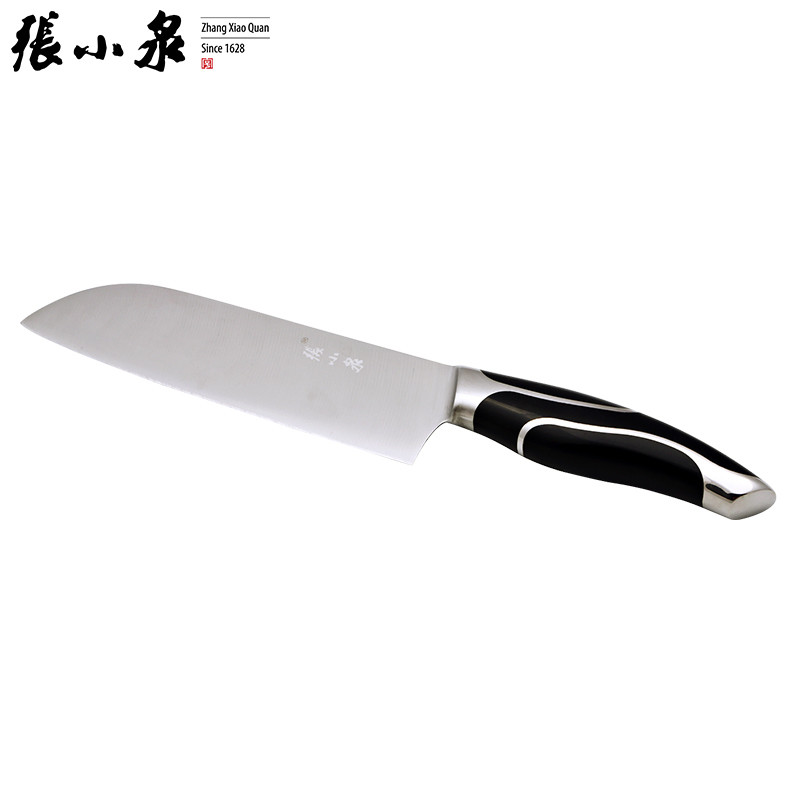knief: (22, 259, 767, 523)
